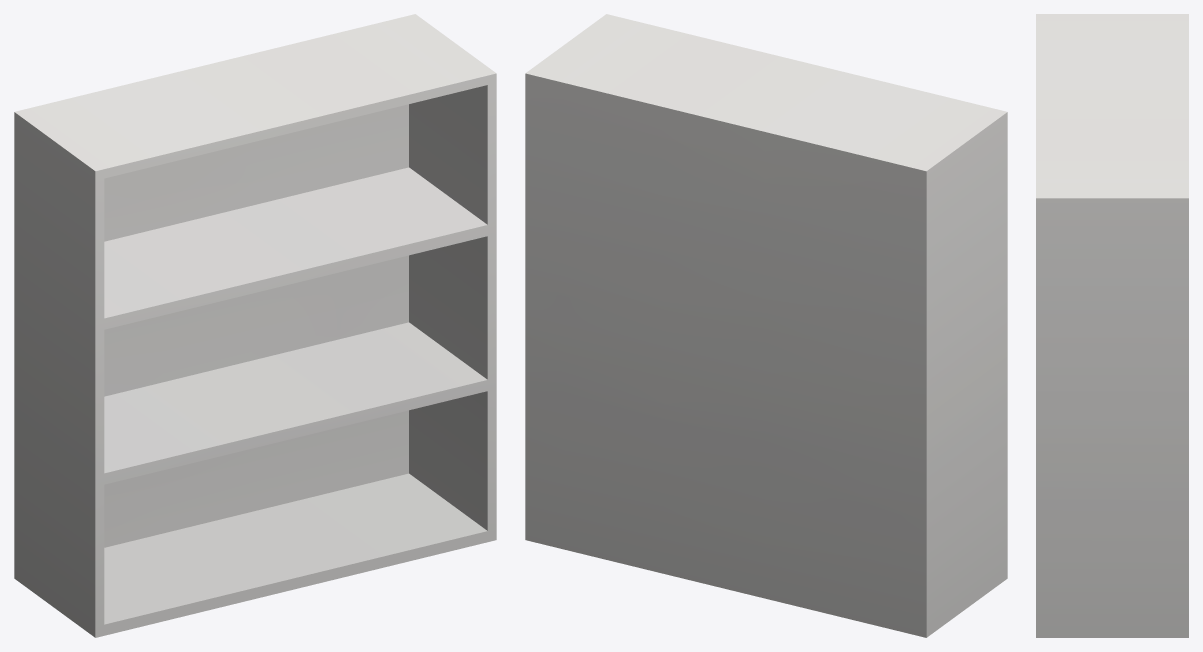
Rendered from Shelving_3Tier_White.fbx.
The picture shows the model from 3 angles, left to right: view 1: azimuth 30°, elevation 25°; view 2: azimuth 150°, elevation 25°; view 3: azimuth 270°, elevation 25°; orthographic projection. The views are drawn at different scales.
Parts seen in each view (by area): view 1: Shelving_3Tier_White; view 2: Shelving_3Tier_White; view 3: Shelving_3Tier_White.
Part boxes in pixels (box(x1,y1,x2,y2)): Shelving_3Tier_White: box(14, 14, 496, 637); Shelving_3Tier_White: box(525, 14, 1007, 637); Shelving_3Tier_White: box(1036, 14, 1188, 637).
Bounding box in the file's own units: 103 × 114 × 36.08.
